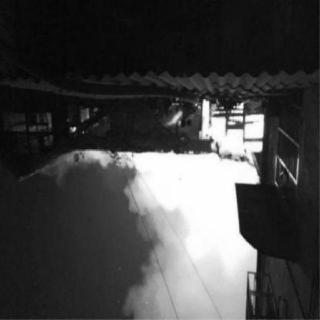Fire: (138, 99, 254, 269)
